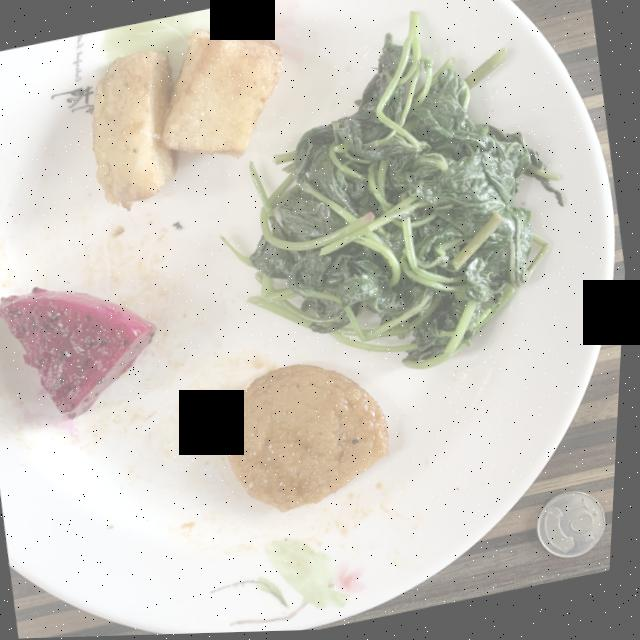coin: (542, 495, 611, 561)
fish cake: (229, 366, 393, 513)
fried potato: (93, 30, 285, 210)
sweet potato leaves: (225, 13, 564, 372)
